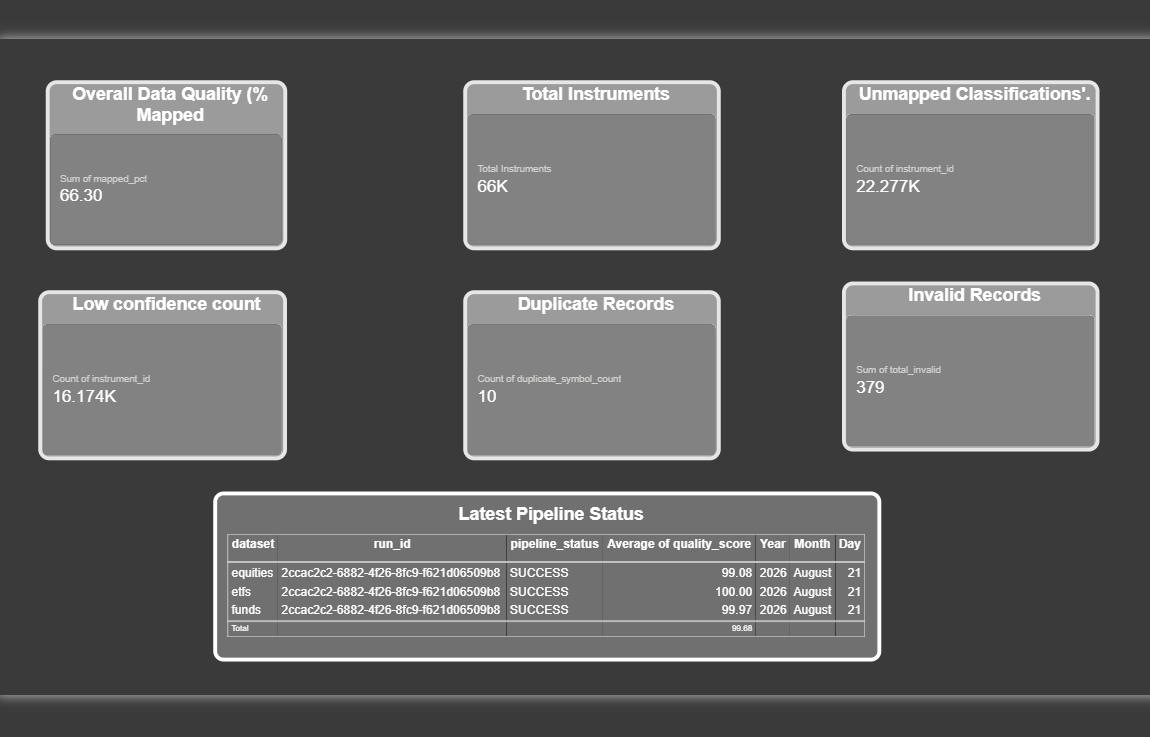

Layout of this report page (visuals, bound fields, positions):
{"tool":"powerbi","page":{"name":"Data Product Health.","canvas":[1920,1080],"ordinal":4},"visuals":[{"type":"cardVisual","title":"Overall Data Quality (% Mapped","fields":{"Data":["Sum(vw_TaxonomyCoverageOverall.mapped_pct)"]},"box":[80.3,67.9,397.3,279.9],"z":0},{"type":"cardVisual","title":"Total Instruments","fields":{"Data":["Sum(vw_TaxonomyCoverageOverall.total_instruments)"]},"box":[767.8,67.9,424,279.9],"z":1000},{"type":"cardVisual","title":"Unmapped Classifications''.","fields":{"Data":["CountNonNull(vw_UnmappedInstruments.instrument_id)"]},"box":[1391.4,67.9,424,279.9],"z":2000},{"type":"cardVisual","title":"Low confidence count","fields":{"Data":["CountNonNull(vw_LowConfidenceMappings.instrument_id)"]},"box":[67.9,413.7,409.6,279.9],"z":3000},{"type":"cardVisual","title":"Duplicate Records","fields":{"Data":["CountNonNull(vw_DuplicateRateByExchange.duplicate_symbol_count)"]},"box":[767.8,413.7,424,279.9],"z":4000},{"type":"cardVisual","title":"Invalid Records","fields":{"Data":["Sum(vw_DataQualityBySourceDataset.total_invalid)"]},"box":[1391.4,399.3,424,279.9],"z":5000},{"type":"tableEx","title":"Latest Pipeline Status","fields":{"Values":["vw_LatestPipelineStatus.dataset","vw_LatestPipelineStatus.run_id","vw_LatestPipelineStatus.pipeline_status","Avg(vw_LatestPipelineStatus.quality_score)","vw_LatestPipelineStatus.run_datetime.Variation.Date Hierarchy.Year","vw_LatestPipelineStatus.run_datetime.Variation.Date Hierarchy.Month","vw_LatestPipelineStatus.run_datetime.Variation.Date Hierarchy.Day"]},"box":[356.1,745.1,1100,279.9],"z":6000}]}

Visuals, with their boxes in screenshot pixels (x1, y1, x2, y2):
"Overall Data Quality (% Mapped" cardVisual: box=[37, 75, 280, 246]
"Total Instruments" cardVisual: box=[458, 75, 718, 246]
"Unmapped Classifications''." cardVisual: box=[840, 75, 1100, 246]
"Low confidence count" cardVisual: box=[30, 286, 280, 458]
"Duplicate Records" cardVisual: box=[458, 286, 718, 458]
"Invalid Records" cardVisual: box=[840, 277, 1100, 449]
"Latest Pipeline Status" tableEx: box=[206, 489, 880, 661]
